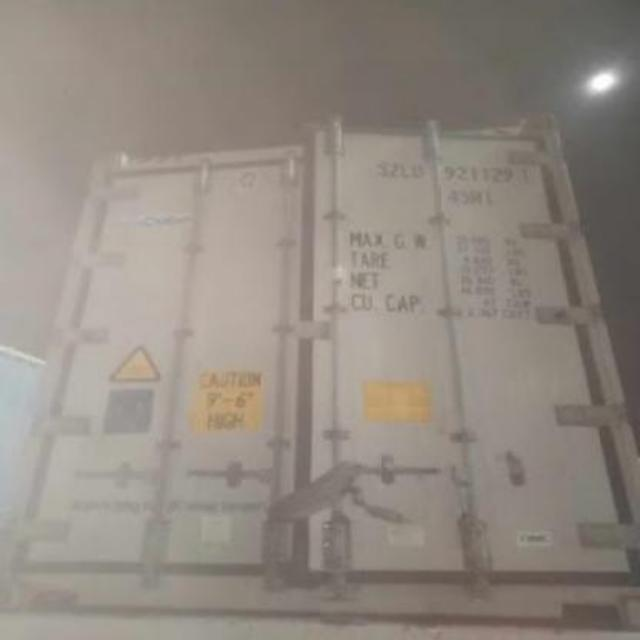1: (482, 166, 492, 184), (524, 169, 534, 185), (470, 166, 478, 180)
2: (456, 164, 469, 180), (494, 168, 502, 182)
9: (442, 164, 454, 180), (504, 168, 516, 182)
L: (400, 161, 412, 179)
S: (376, 161, 389, 179)
U: (412, 163, 426, 181)
Z: (392, 160, 402, 182)
